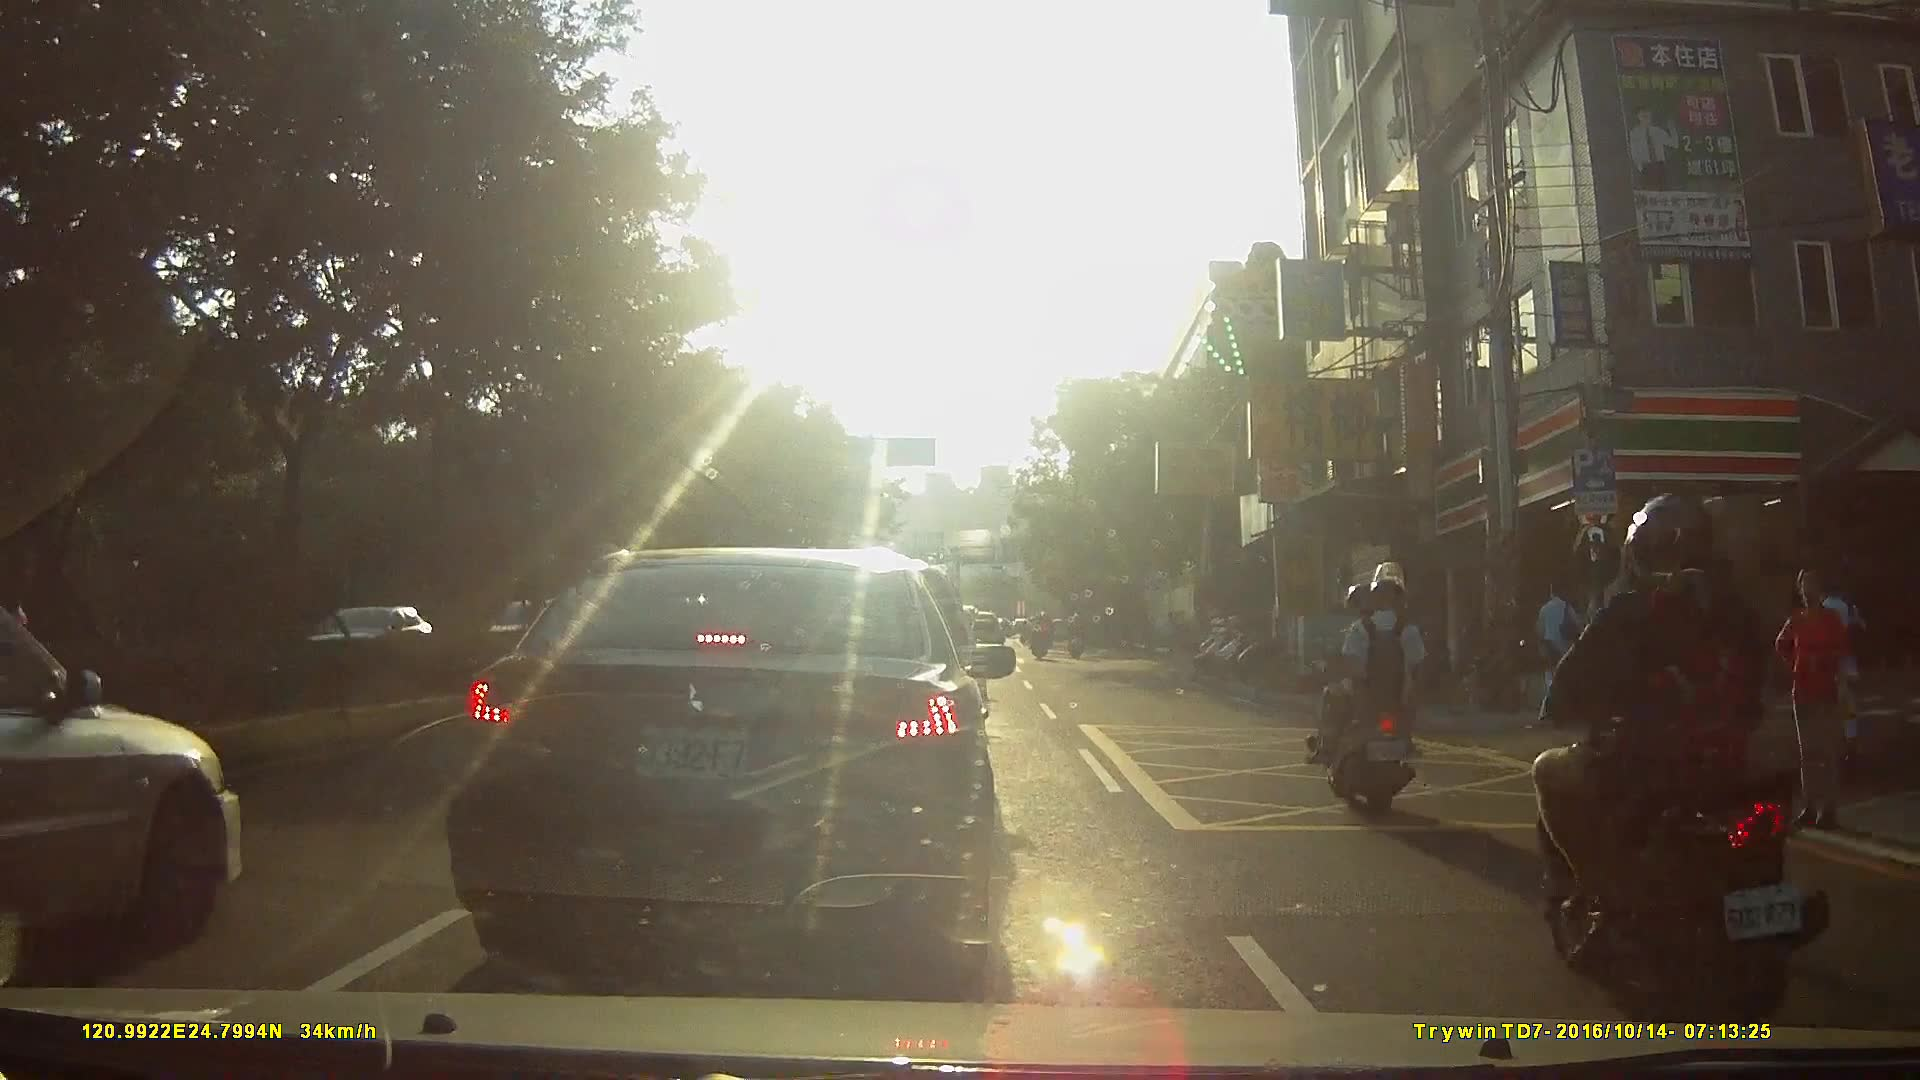pedestrian: (1776, 567, 1854, 832), (1536, 579, 1590, 715), (1680, 565, 1723, 684), (1628, 566, 1670, 692), (1620, 568, 1653, 699)
rider: (1530, 492, 1833, 1040), (1307, 562, 1434, 810), (1031, 608, 1052, 663), (1065, 614, 1087, 663)
vehicle: (450, 537, 1041, 973), (1, 591, 270, 973)
